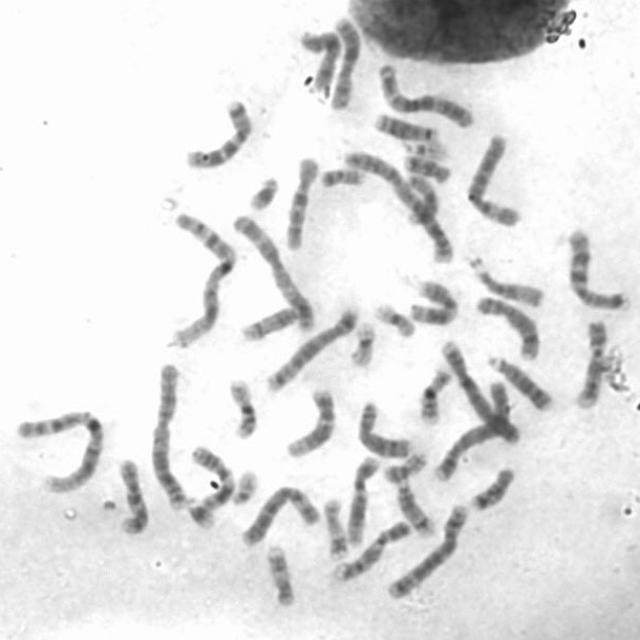A1: (164, 206, 241, 352), (11, 402, 108, 495)
A2: (338, 142, 458, 267), (147, 357, 189, 512)
A3: (228, 209, 318, 333), (372, 58, 478, 130)
B4: (436, 334, 524, 447), (429, 376, 514, 482)
B5: (261, 298, 362, 393), (381, 498, 471, 601)
C10: (279, 150, 322, 253), (112, 452, 151, 537)
C11: (186, 439, 238, 512), (406, 275, 462, 327)
C12: (282, 382, 339, 459), (343, 451, 382, 548)
C6: (462, 128, 524, 229), (236, 478, 322, 548)
C7: (561, 223, 633, 313), (178, 91, 256, 170)
C8: (470, 288, 542, 362), (353, 396, 418, 459)
C9: (328, 514, 416, 584), (570, 313, 612, 412)
D13: (484, 349, 558, 413), (370, 108, 440, 144)
D14: (235, 295, 315, 343), (392, 475, 440, 538)
D15: (466, 252, 546, 309), (402, 169, 441, 227)
E16: (412, 361, 454, 426), (224, 373, 262, 440)
E17: (261, 540, 298, 610), (319, 492, 349, 562)
E18: (466, 461, 517, 513), (398, 150, 453, 184)
F19: (369, 297, 419, 339), (344, 315, 379, 369)
F20: (381, 446, 431, 484), (315, 160, 368, 190)
G21: (242, 170, 282, 212), (182, 490, 218, 531)
G22: (227, 464, 260, 506), (399, 136, 451, 160)
X: (326, 10, 364, 111), (296, 24, 345, 100)
